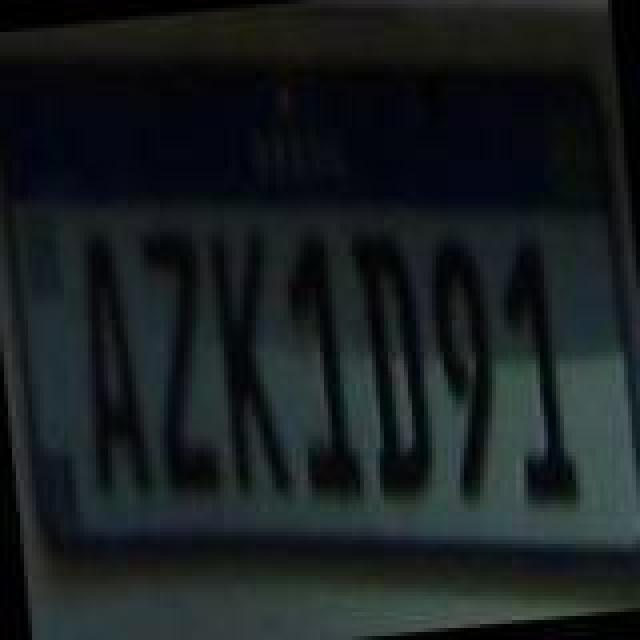1: (492, 234, 580, 518), (276, 226, 364, 502)
9: (422, 230, 506, 506)
A: (66, 228, 158, 508)
D: (346, 224, 438, 504)
K: (200, 216, 296, 504)
Z: (134, 218, 226, 502)
